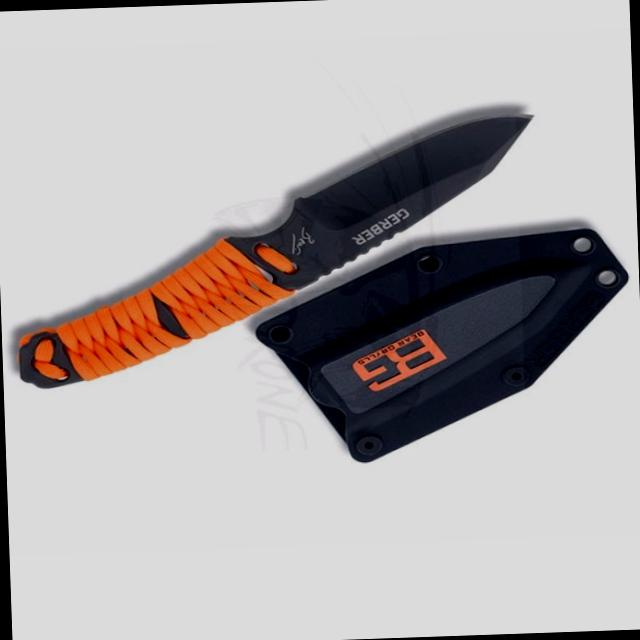knife: (282, 106, 546, 243)
